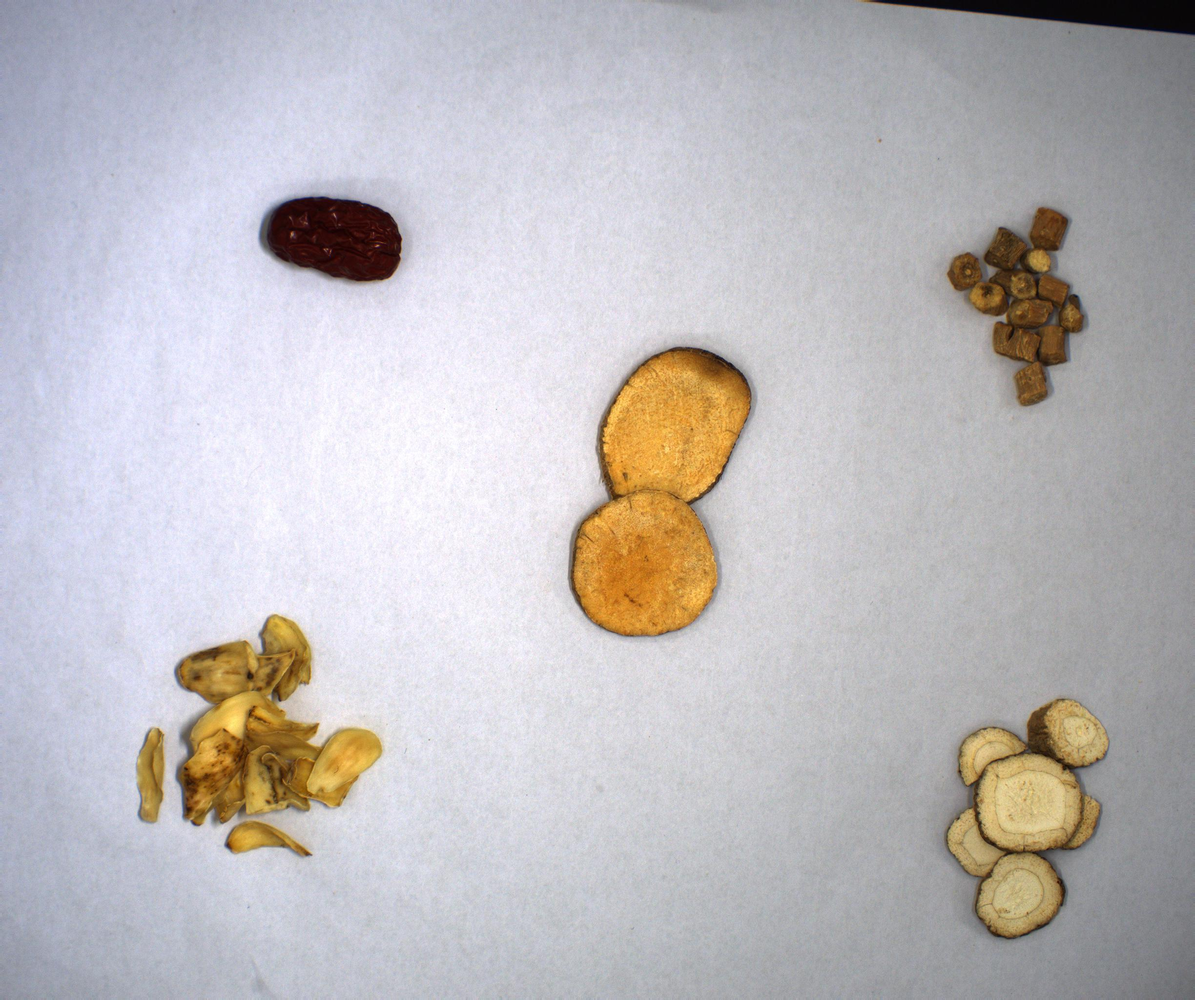baihe: (103, 589, 412, 897)
baizhi: (906, 645, 1147, 978)
dazao: (206, 152, 451, 356)
niuxi: (941, 150, 1124, 458)
zexie: (546, 304, 781, 683)
